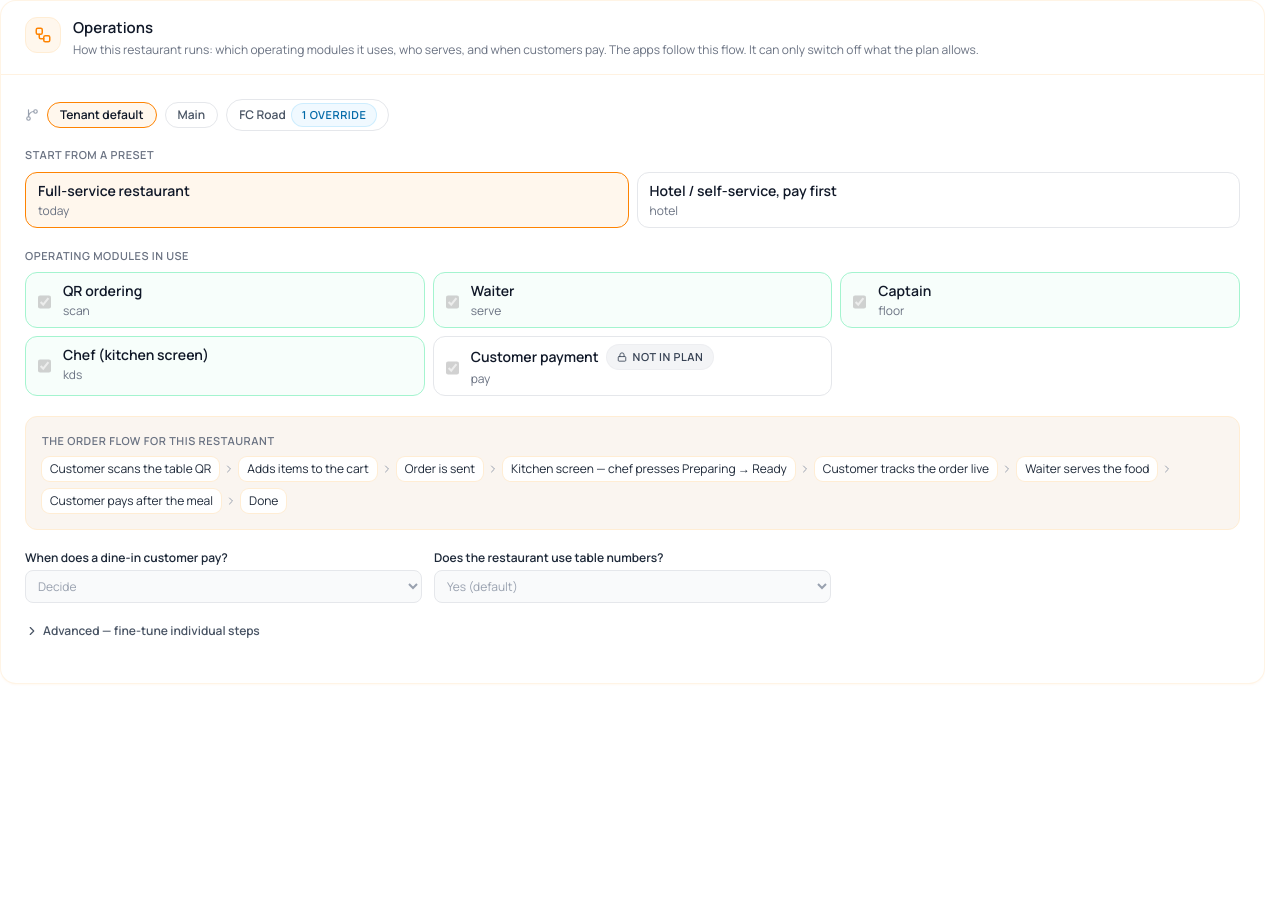
Scenario: OperationsPanel › per-branch overrides (design §12.1) › read-only: branches can be viewed with their tags but not changed or reset
This screenshot has width=1280, height=900.
Check: the element with test id "ops-modules" is shown, box top-left (25, 272), bottom-right (1240, 396)
Check: the element with test id "ops-scope" is shown, box top-left (25, 98), bottom-right (389, 131)
Click the button "FC Road 1 override". click: [308, 115]
box: top-left (226, 98), bottom-right (389, 131)
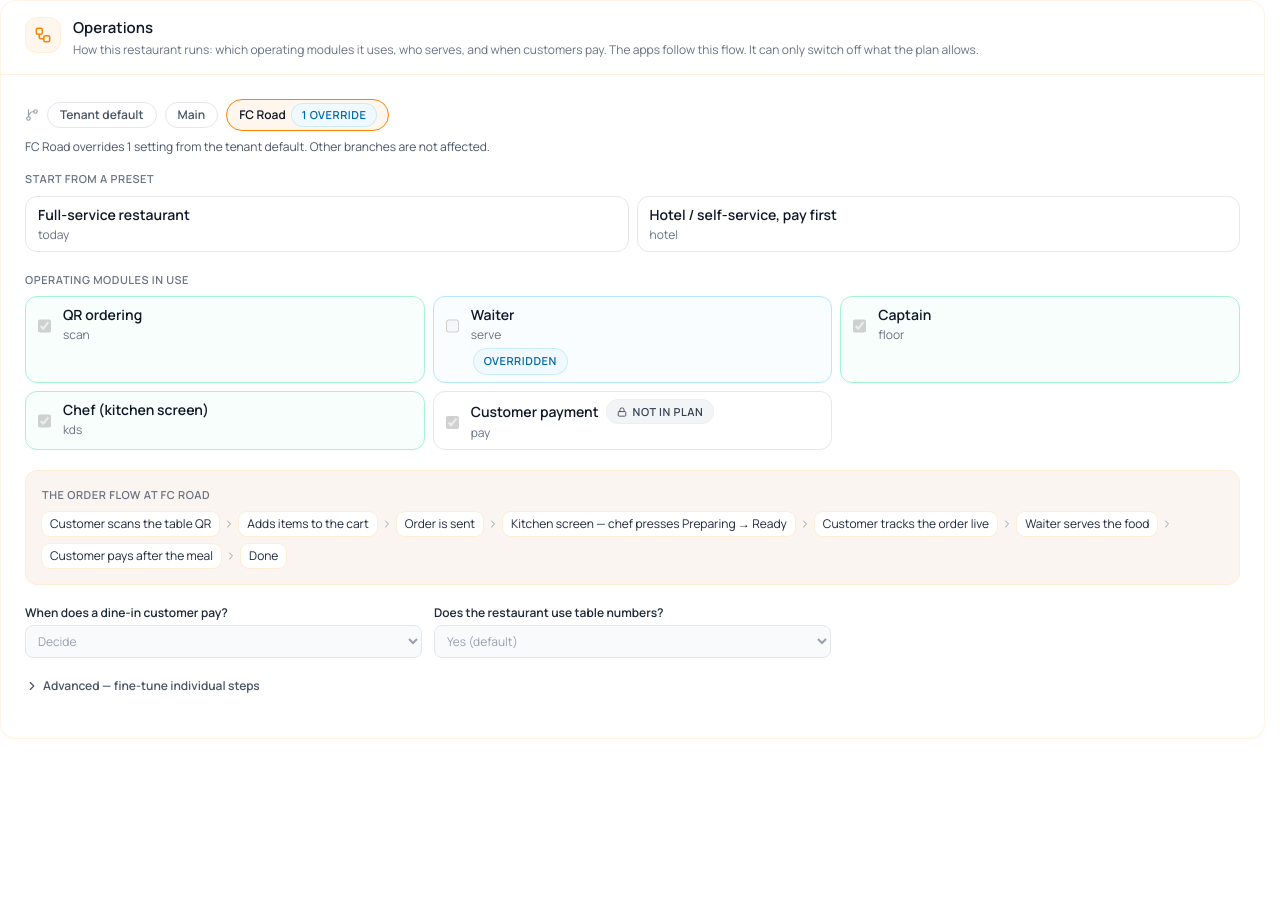
Check: the checkbox labelled "Waiter" is disabled, box top-left (446, 309), bottom-right (459, 343)
Check: the text with test id "ops-branch-note" is shown, box top-left (25, 138), bottom-right (490, 155)
Check: the element with test id "ops-override-modules.waiter" reads "Overridden", box top-left (484, 353), bottom-right (557, 368)
